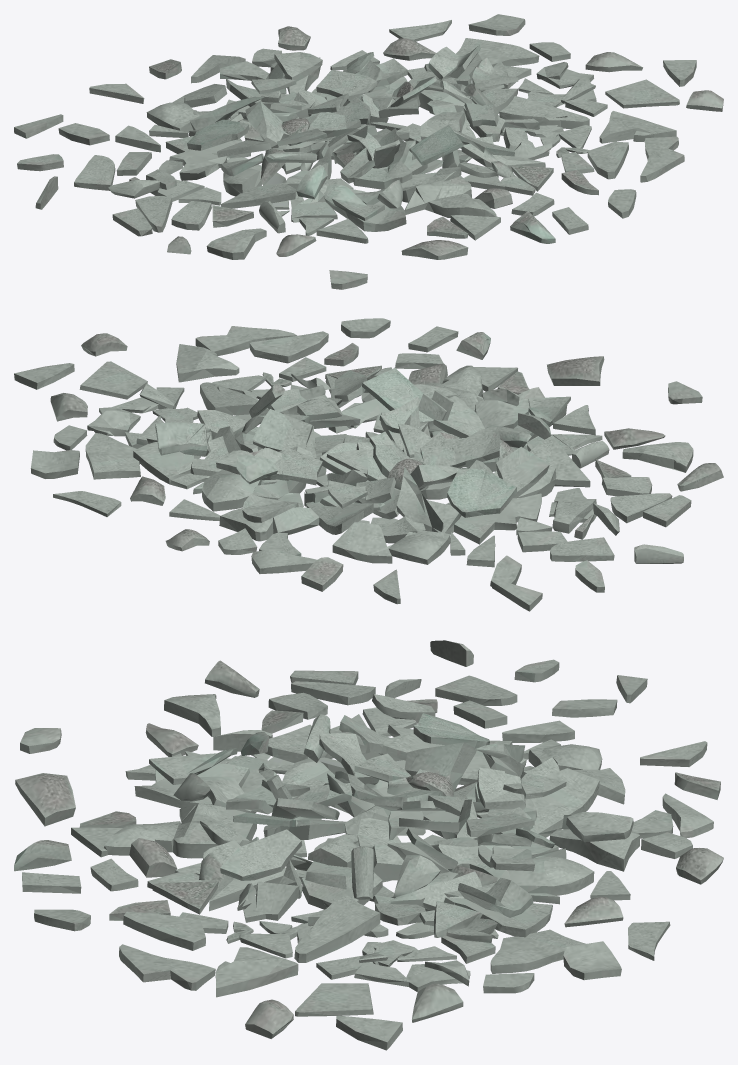
File: vetri_rotti_N.glb
3 views of the same model, one above another, from view 1: azimuth 30°, elevation 25°; view 2: azimuth 150°, elevation 25°; view 3: azimuth 270°, elevation 25° (orthographic). The views are drawn at different scales.
Visible parts, largest first — view 1: Mesh_0; view 2: Mesh_0; view 3: Mesh_0.
Boxes of the visible parts, x1,y1,x2,y2 form: Mesh_0: (14,14,723,289); Mesh_0: (14,318,723,611); Mesh_0: (14,640,723,1050).
Bounding box in the file's own units: 0.6 × 0.0439 × 0.4486.
1 material, 1 textured.
